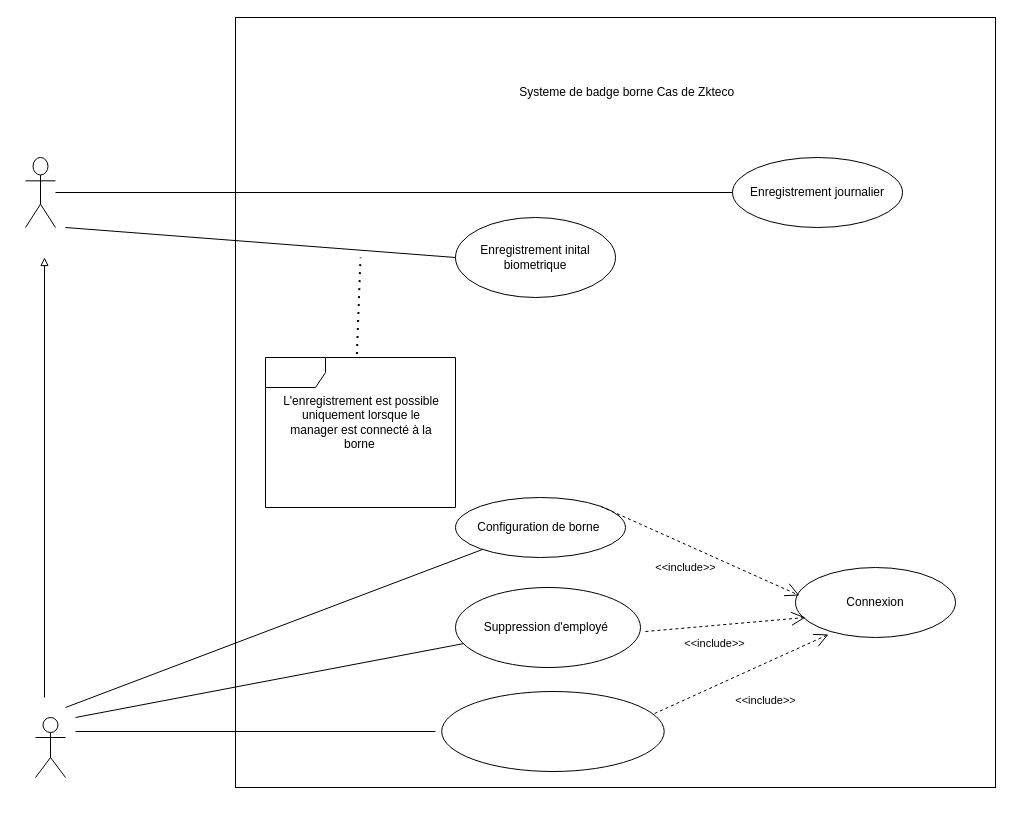
The diagram is 1013 pixels wide and 816 high, and some of its shapes have lost their labels. Here are the shapes that lost their labels. From the top down, the box of each, then its label:
(24, 156, 56, 228): Employe
(34, 716, 66, 778): Manager
(441, 690, 664, 772): Attribution d'id Biométrique employé
